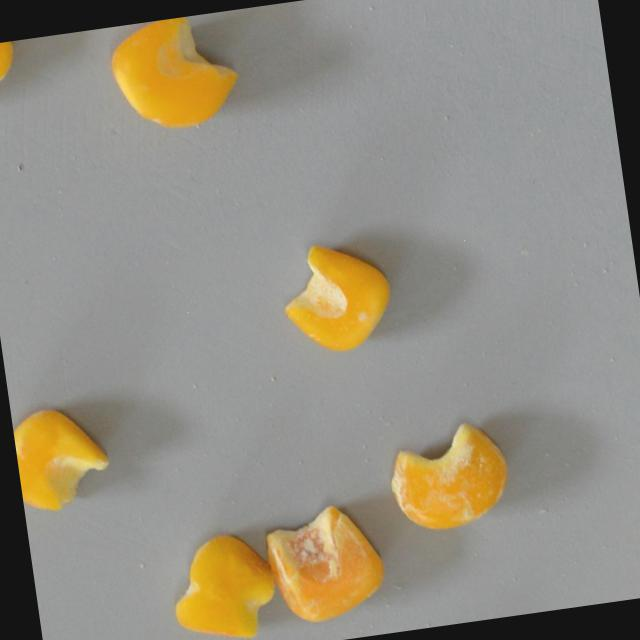dañado: (256, 491, 395, 638), (100, 9, 247, 145), (271, 229, 403, 365), (381, 412, 518, 541), (162, 525, 283, 640), (9, 395, 118, 522), (0, 39, 27, 111)
